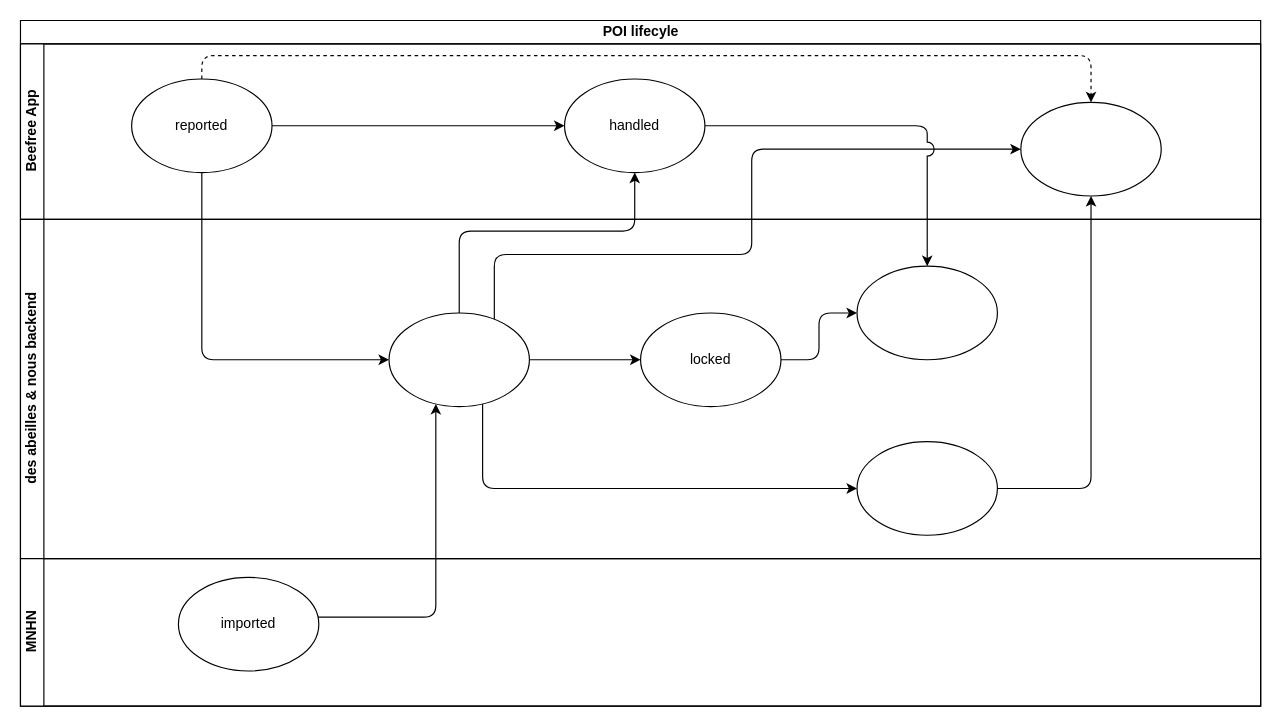
Some shapes in this 1281 by 727 pixel diagram are drawn without their labels. The centre of each missing label's shape, as x and y in pixels:
"archived" goes at point 926,312.
"disbelieved" goes at point 926,488.
"erased" goes at point 1090,148.
"live" goes at point 458,359.
